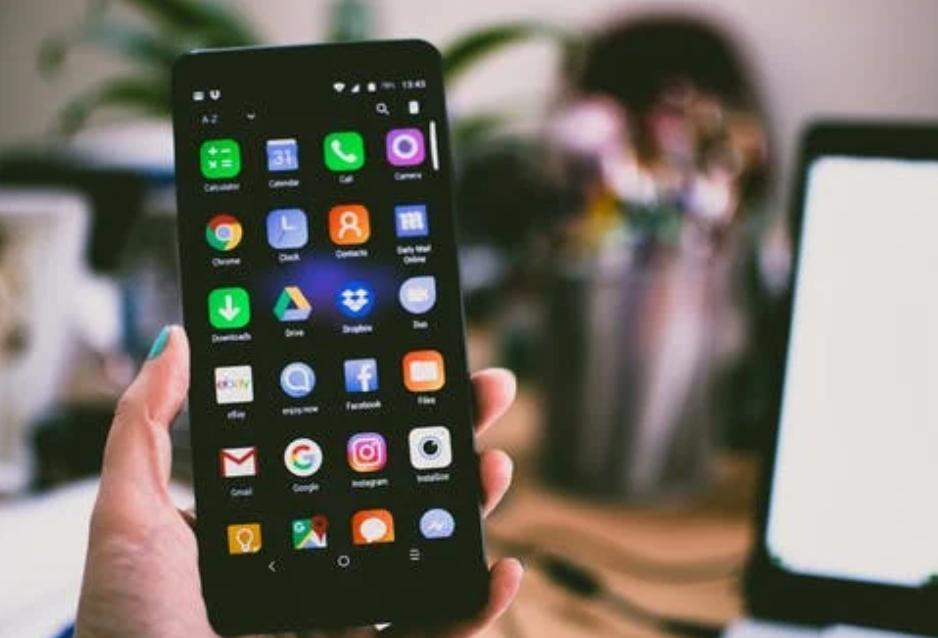mobile: (166, 39, 490, 637)
